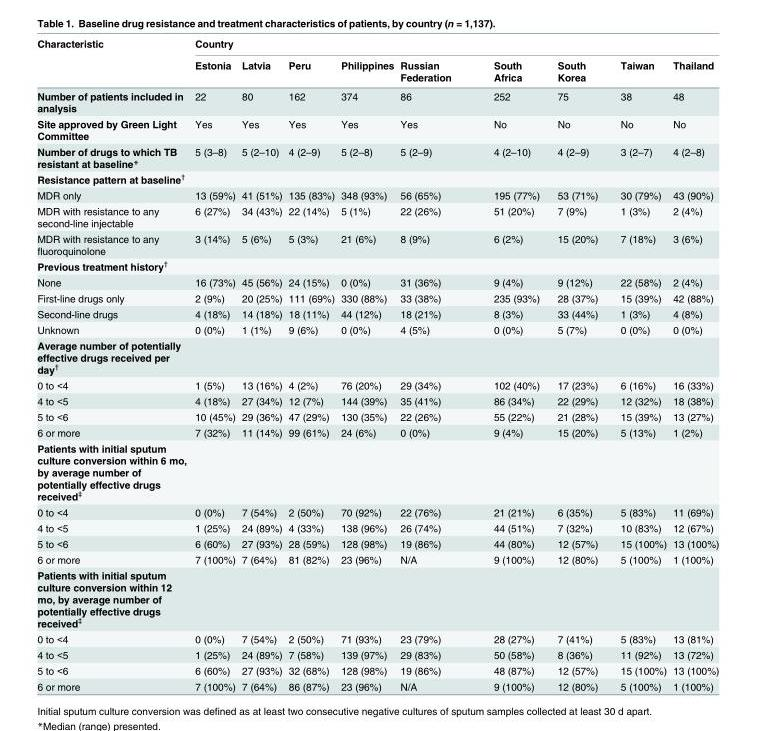table: (36, 37, 718, 691)
table column: (36, 37, 190, 691), (471, 37, 547, 691), (396, 37, 471, 691), (547, 37, 608, 691), (608, 37, 669, 691), (337, 37, 396, 691), (284, 37, 337, 691), (669, 37, 718, 691), (190, 37, 237, 691), (237, 37, 284, 691)
table column header: (36, 37, 718, 86)
table projected row header: (36, 439, 718, 503), (36, 566, 718, 630), (36, 337, 718, 377), (36, 258, 718, 274), (36, 171, 718, 186)
table row: (36, 439, 718, 503), (36, 566, 718, 630), (36, 337, 718, 377), (36, 53, 718, 86), (36, 86, 718, 115), (36, 115, 718, 143), (36, 143, 718, 171), (36, 202, 718, 230), (36, 230, 718, 258), (36, 37, 718, 53), (36, 186, 718, 202), (36, 258, 718, 274), (36, 289, 718, 305), (36, 305, 718, 321), (36, 321, 718, 337), (36, 392, 718, 408), (36, 408, 718, 424), (36, 503, 718, 519), (36, 519, 718, 535), (36, 535, 718, 551), (36, 630, 718, 646), (36, 646, 718, 662), (36, 662, 718, 678), (36, 171, 718, 186), (36, 274, 718, 289), (36, 377, 718, 392), (36, 424, 718, 439), (36, 551, 718, 566), (36, 678, 718, 691)
table spanning cell: (190, 37, 718, 53), (36, 37, 190, 86)
